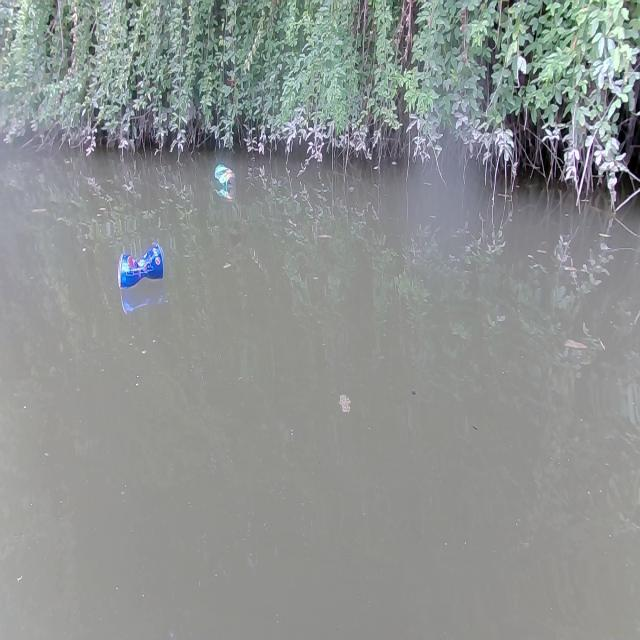bottle: (115, 241, 167, 291), (212, 164, 238, 196)
